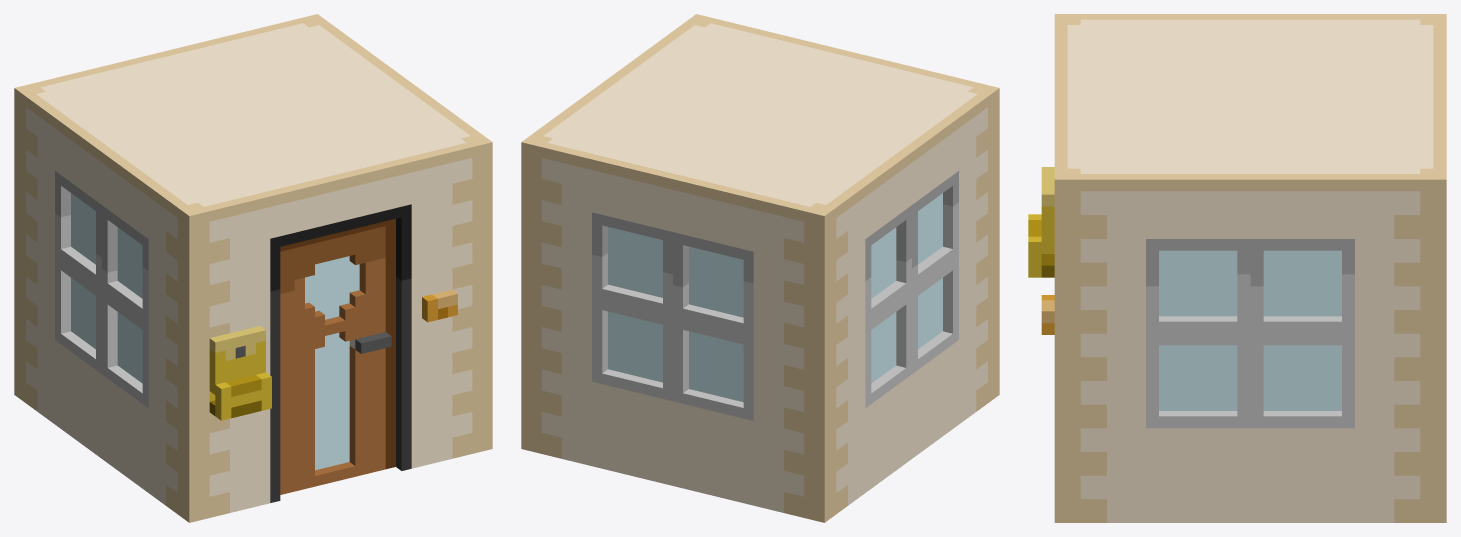
File: hose_base_B.obj
The picture shows the model from 3 angles, left to right: view 1: azimuth 30°, elevation 25°; view 2: azimuth 150°, elevation 25°; view 3: azimuth 270°, elevation 25°; orthographic projection. The views are drawn at different scales.
Size of the model in its own units: 3 by 2.9 by 3.2.
1 material, 1 textured.
